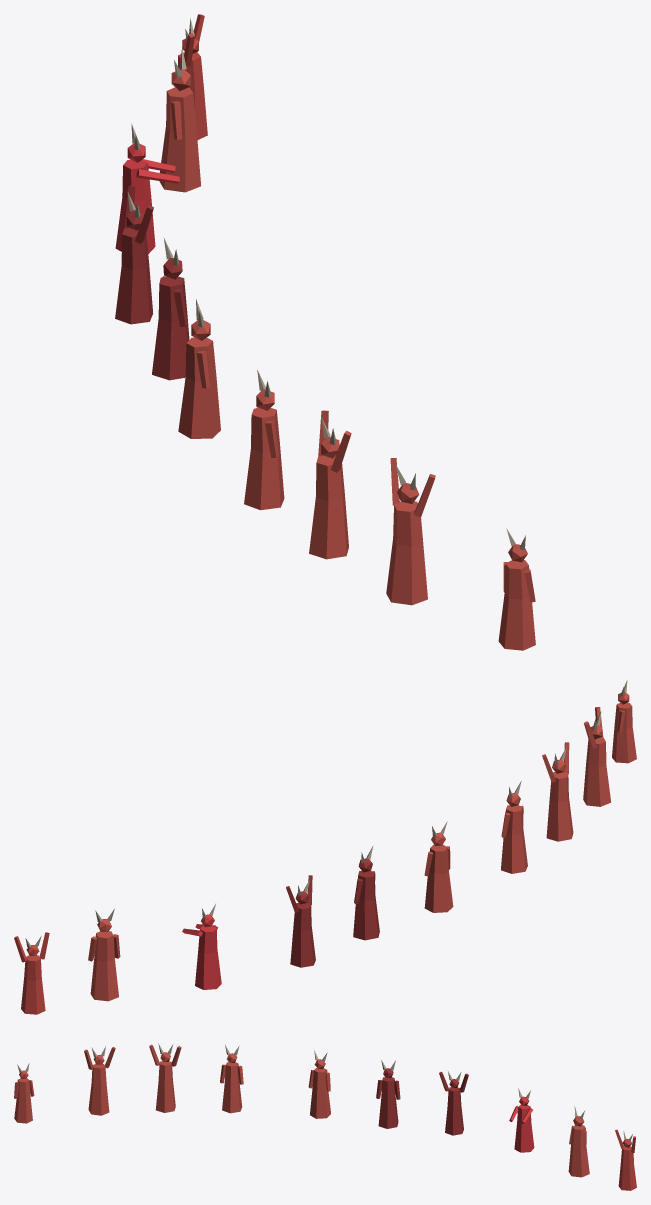
Rendered from Stands_6_0_2.obj.
3 renders of one model, top to bottom at view 1: azimuth 30°, elevation 25°; view 2: azimuth 150°, elevation 25°; view 3: azimuth 270°, elevation 25°, orthographic. The views are drawn at different scales.
Visible parts, largest first — view 1: Stands_6_0_2; view 2: Stands_6_0_2; view 3: Stands_6_0_2.
Part boxes in pixels (box(x1,y1,x2,y2)): Stands_6_0_2: box(115, 14, 535, 650); Stands_6_0_2: box(14, 680, 636, 1014); Stands_6_0_2: box(14, 1043, 636, 1190).
Size of the model in its own units: 11.2 by 3.85 by 33.35.
1 material, 1 textured.
